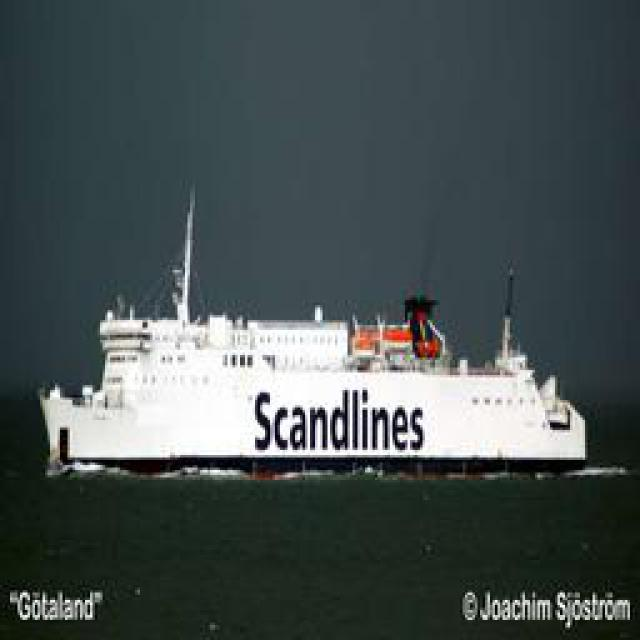Ship: (29, 291, 586, 486)
